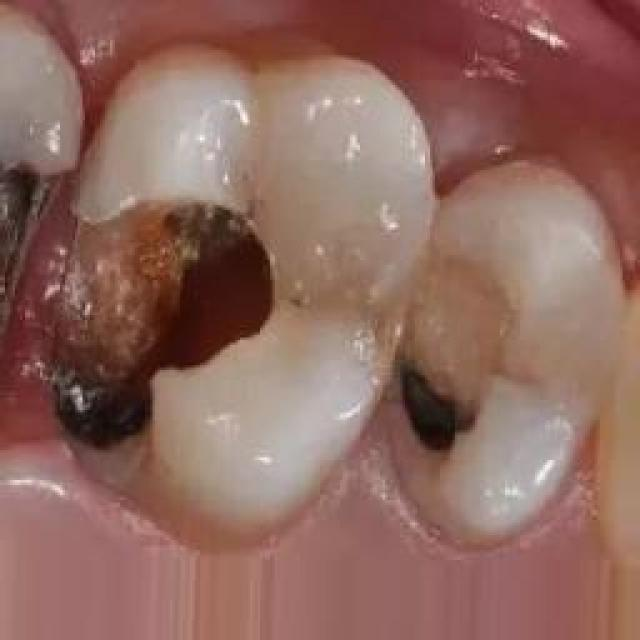caries: (58, 220, 240, 440), (400, 372, 468, 458)
